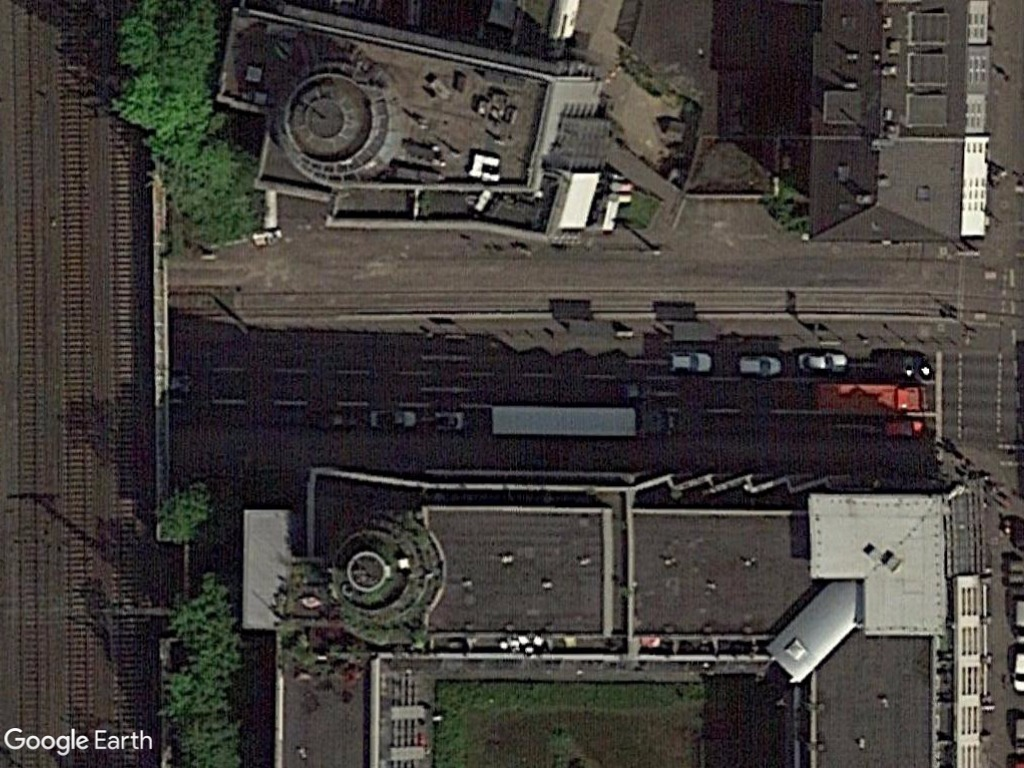car: (728, 341, 788, 383), (794, 344, 860, 381), (657, 338, 717, 378)
